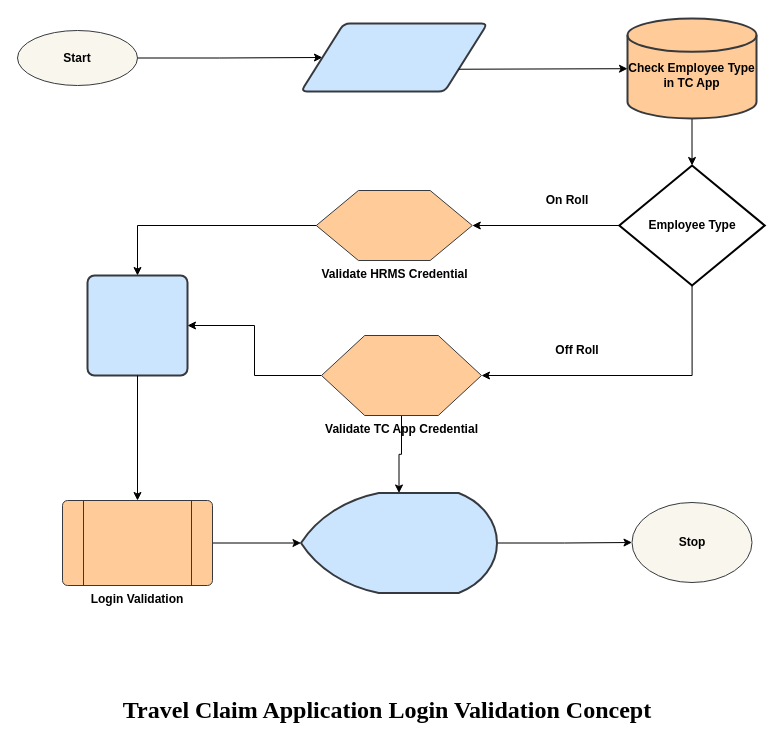
This 783x742 diagram has some shape labels left out. The box of each missing label's shape, as (x1, y1, x2, y2) in pixels:
Login Info: (300, 22, 488, 92)
Mail OTP to users: (86, 274, 188, 376)
TC App Login: (300, 492, 498, 594)
